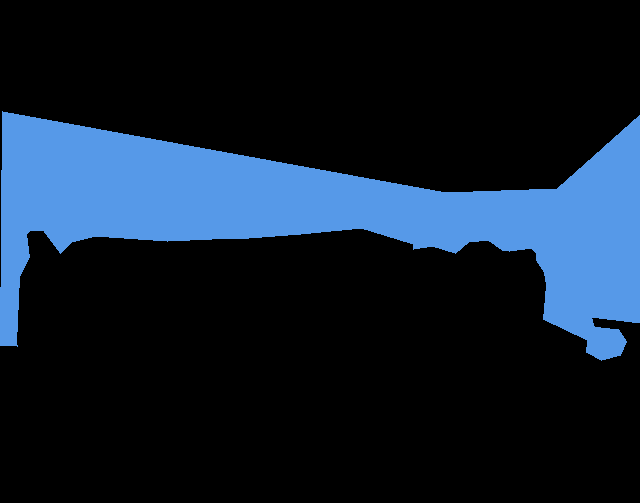Airplane: (0, 111, 640, 360)
